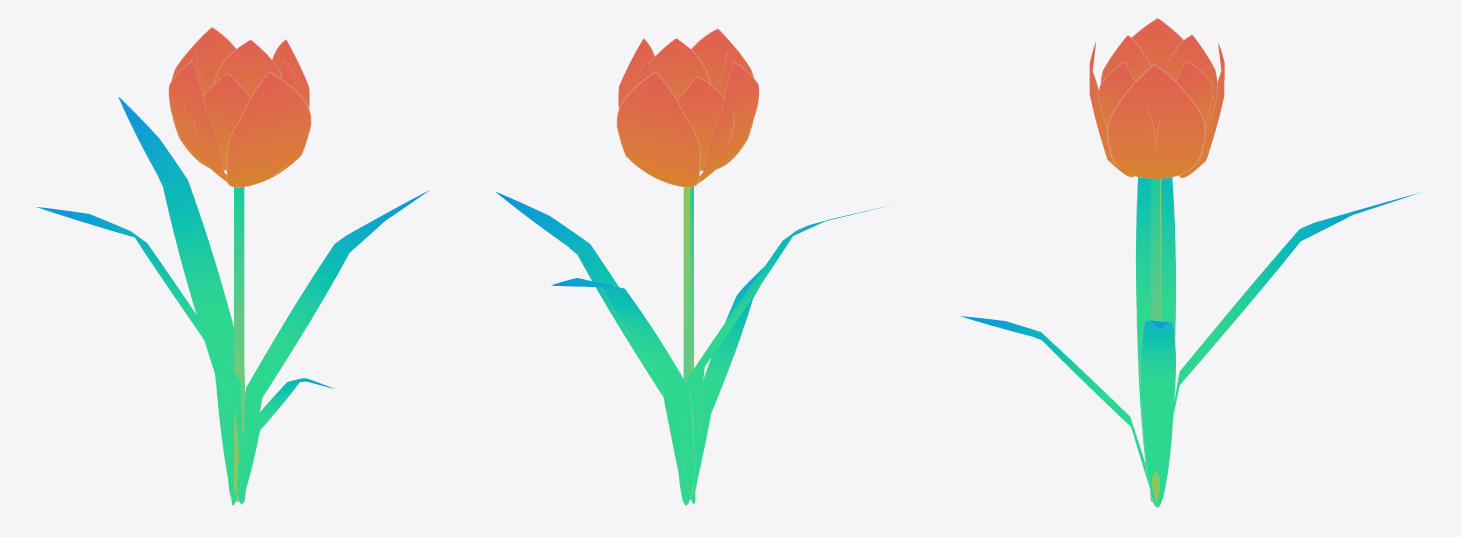
File: Flowers_n02_14.fbx
The picture shows the model from 3 angles, left to right: view 1: azimuth 30°, elevation 25°; view 2: azimuth 150°, elevation 25°; view 3: azimuth 270°, elevation 25°; orthographic projection. The views are drawn at different scales.
Parts seen in each view (by area): view 1: polySurface245; view 2: polySurface245; view 3: polySurface245.
Part boxes in pixels (bbox=[...]): polySurface245: bbox=[36, 27, 429, 505]; polySurface245: bbox=[496, 28, 884, 505]; polySurface245: bbox=[960, 18, 1420, 507].
Bounding box in the file's own units: 39.79 × 41.42 × 38.83.
Materials: 1 (1 with a texture image).
